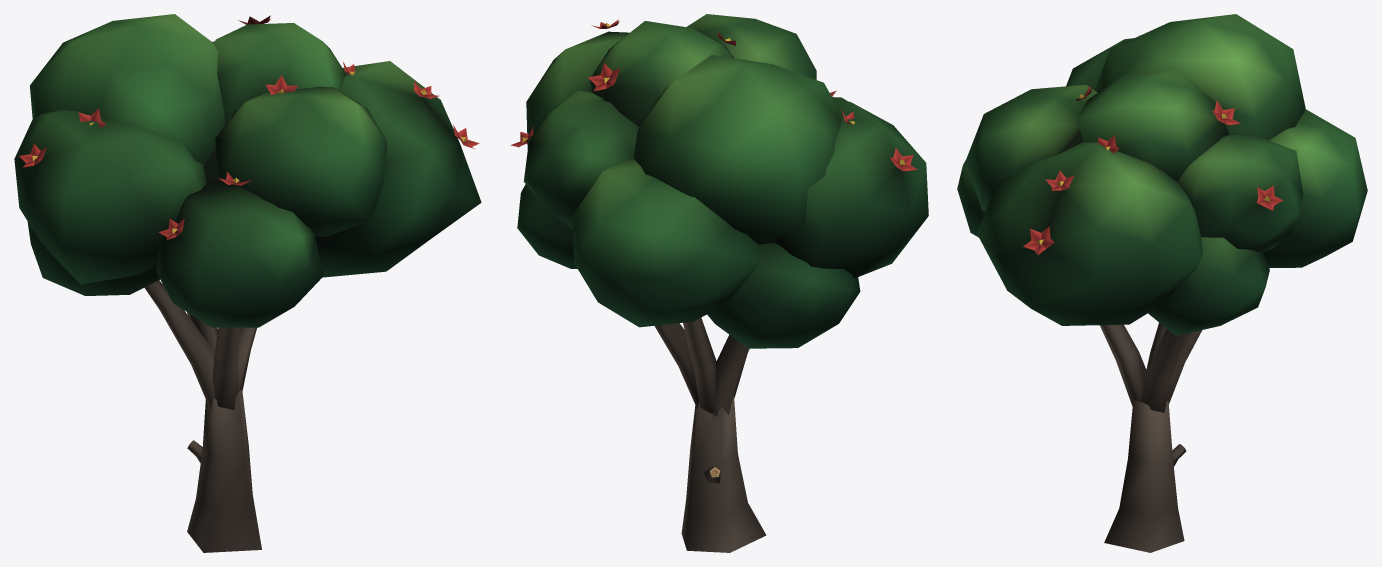
Rendered from tree-camellia-low.glb.
3 renders of one model, left to right at view 1: azimuth 30°, elevation 25°; view 2: azimuth 150°, elevation 25°; view 3: azimuth 270°, elevation 25°, orthographic. The views are drawn at different scales.
Visible parts, largest first — view 1: 1_leaves, 0_trunk; view 2: 1_leaves, 0_trunk; view 3: 1_leaves, 0_trunk.
Boxes of the visible parts, box(x1,y1,x2,y2) form: 1_leaves: box(14, 14, 481, 327); 0_trunk: box(144, 280, 261, 552); 1_leaves: box(511, 14, 928, 348); 0_trunk: box(654, 318, 766, 552); 1_leaves: box(957, 14, 1367, 335); 0_trunk: box(1100, 322, 1202, 552).
Size of the model in its own units: 3.14 by 3.78 by 2.87.
